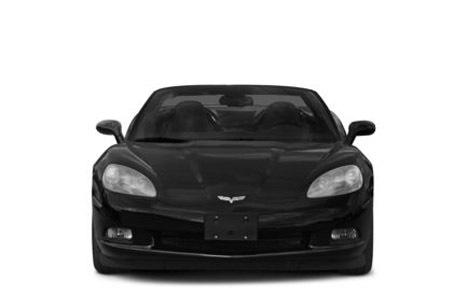car: (91, 83, 392, 284)
